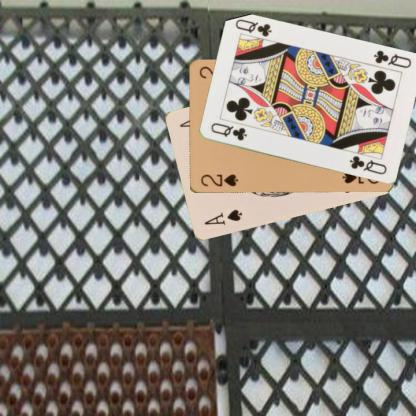2s: (198, 172, 239, 188)
As: (202, 207, 244, 226)
Qc: (371, 47, 412, 70), (207, 120, 248, 142)
